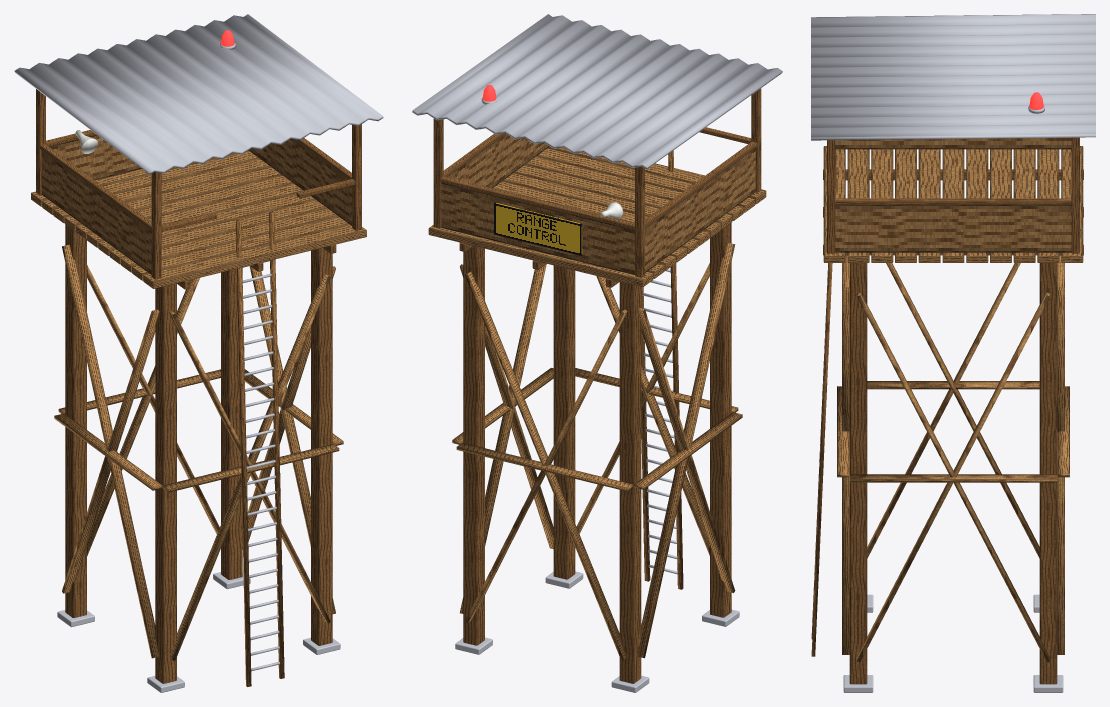
The model's file is p_watchtower.glb.
The picture shows the model from 3 angles, left to right: view 1: azimuth 30°, elevation 25°; view 2: azimuth 150°, elevation 25°; view 3: azimuth 270°, elevation 25°; orthographic projection. The views are drawn at different scales.
Parts seen in each view (by area): view 1: p_watchtower_lod0; view 2: p_watchtower_lod0; view 3: p_watchtower_lod0.
Part boxes in pixels (bbox=[...]): p_watchtower_lod0: bbox=[14, 14, 383, 692]; p_watchtower_lod0: bbox=[412, 14, 782, 692]; p_watchtower_lod0: bbox=[811, 14, 1095, 692].
Size of what is drawn, in the model's own units: 4.82 by 10.96 by 4.8.
3 materials, 1 textured.
